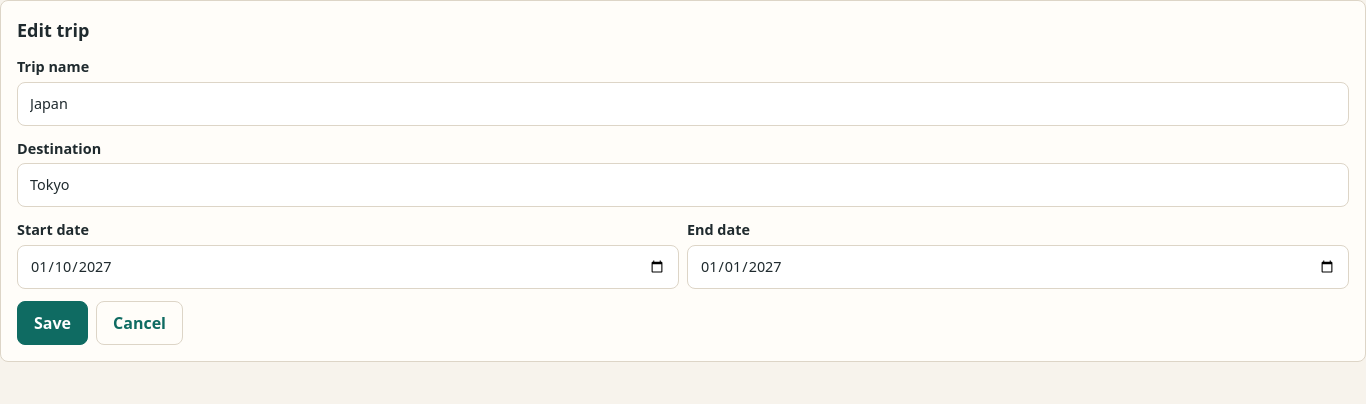
Test: does not save a trip that ends before it starts
Click the button "Save": (52, 323) [17, 301, 88, 345]
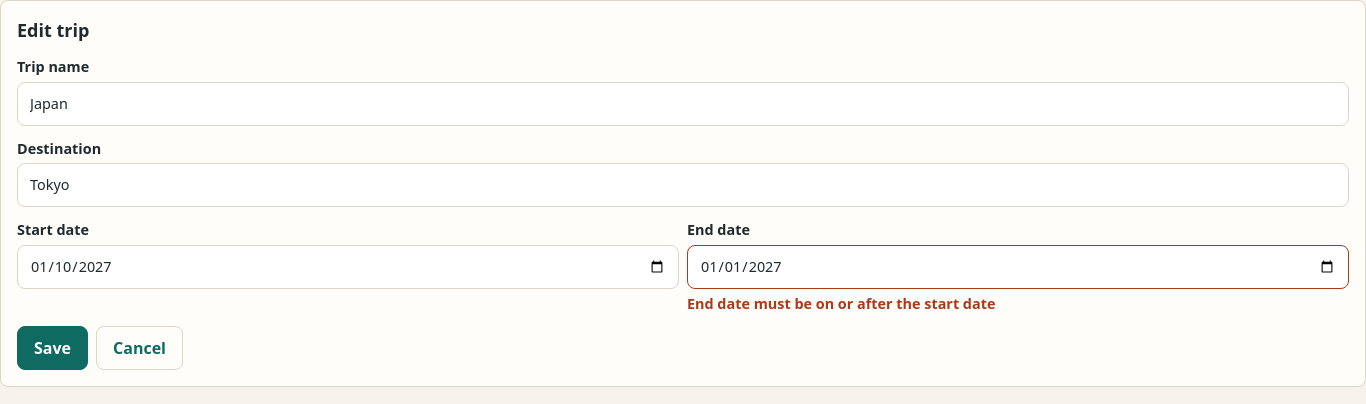
Result: the text "End date must be on or after the start date" is shown at [687, 294, 995, 313]
